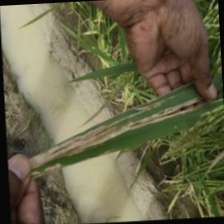Leaf_Blast: (52, 101, 204, 146)
